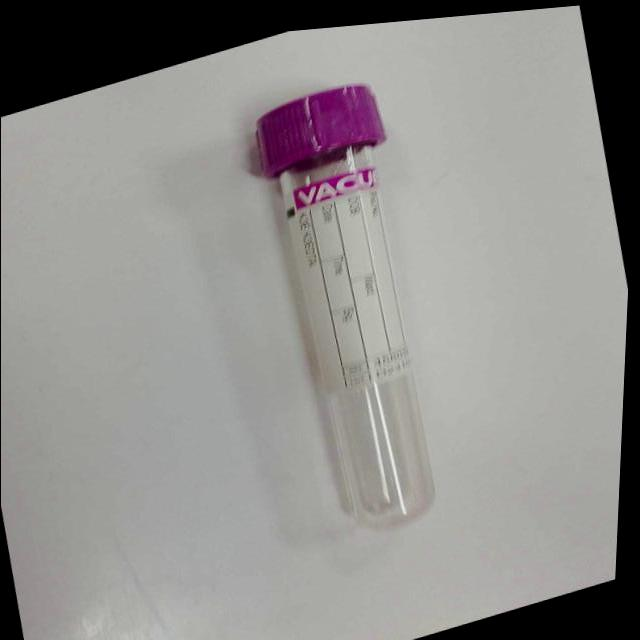General: (253, 81, 388, 179)
Pathological: (4, 3, 629, 637)
Sharps: (254, 82, 437, 530)
